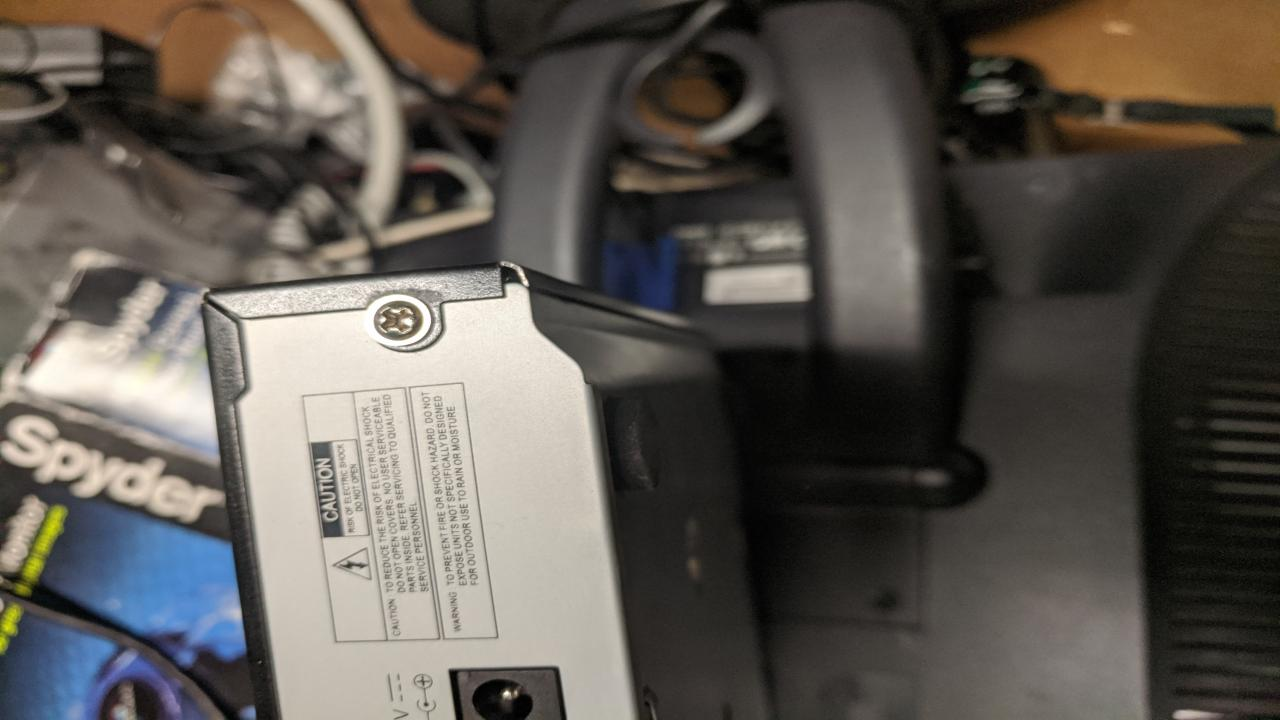CRS: (373, 301, 422, 339)
